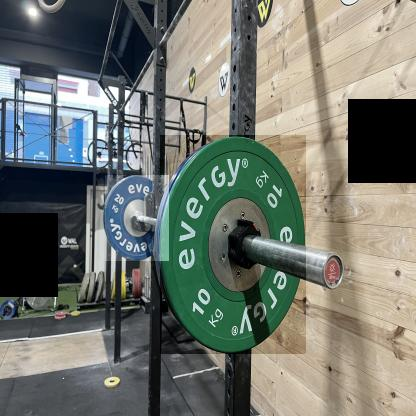barbell: (161, 136, 307, 355), (106, 176, 170, 262)
